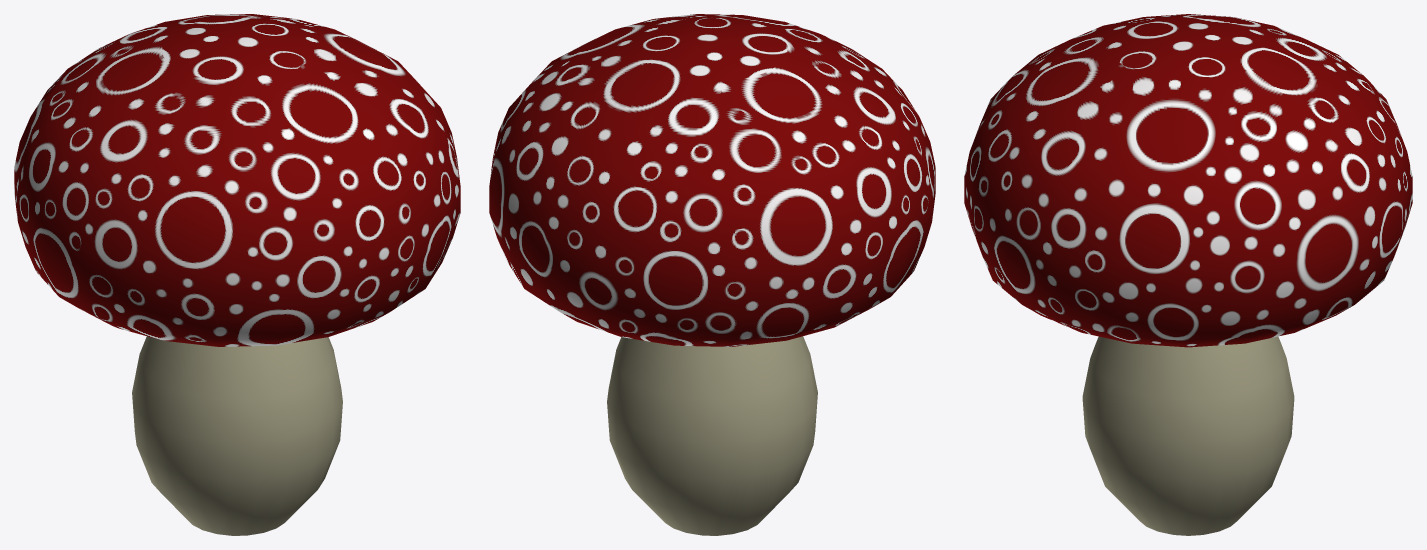
Rendered from MushroomTextured.fbx.
3 renders of one model, left to right at view 1: azimuth 30°, elevation 25°; view 2: azimuth 150°, elevation 25°; view 3: azimuth 270°, elevation 25°, orthographic.
Visible parts, largest first — view 1: Top, Stem; view 2: Top, Stem; view 3: Top, Stem.
Boxes of the visible parts, bbox=[...] form: Top: bbox=[14, 14, 460, 346]; Stem: bbox=[132, 336, 342, 535]; Top: bbox=[489, 14, 935, 346]; Stem: bbox=[607, 336, 817, 535]; Top: bbox=[964, 14, 1412, 347]; Stem: bbox=[1082, 336, 1294, 535].
Bounding box in the file's own units: 3.25 × 3.84 × 3.25.
Materials: 2 (2 with a texture image).
